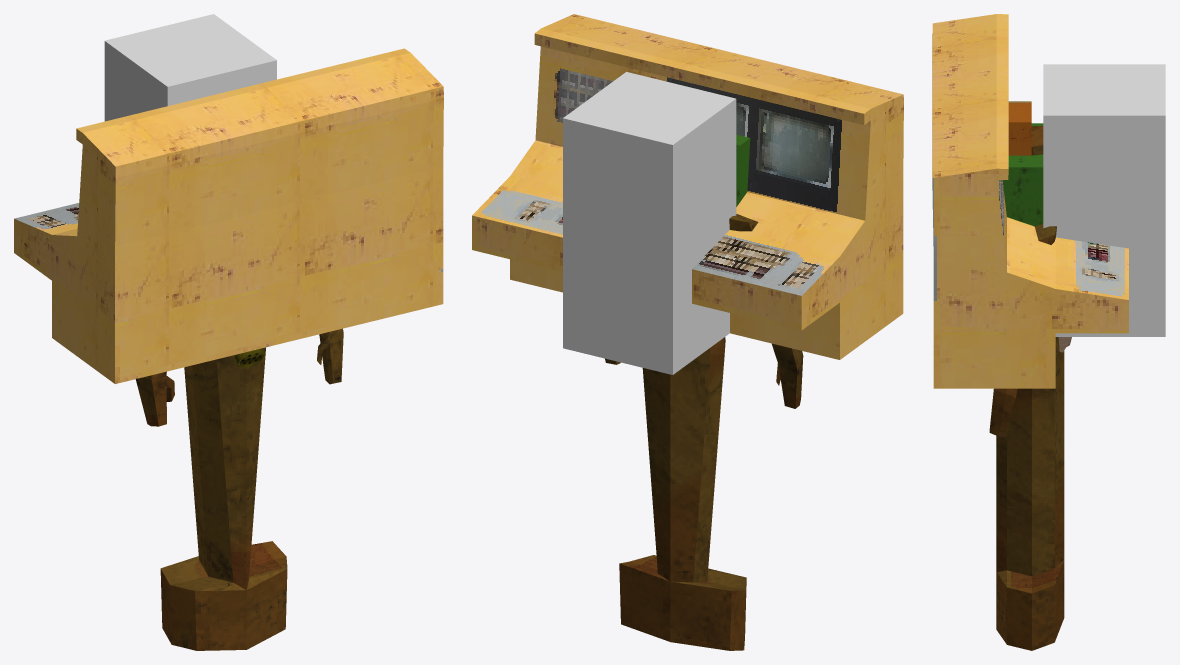
The model's file is statue.gltf.
3 renders of one model, left to right at view 1: azimuth 30°, elevation 25°; view 2: azimuth 150°, elevation 25°; view 3: azimuth 270°, elevation 25°, orthographic. The views are drawn at different scales.
Parts seen in each view (by area): view 1: SovietComputer, Statua, Player reference; view 2: SovietComputer, Player reference, Statua, Archivero; view 3: SovietComputer, Player reference, Statua, Archivero, CajaCables.
Boxes of the visible parts, x1,y1,x2,y2 form: SovietComputer: (14,48,443,383); Statua: (135,328,343,650); Player reference: (104,14,276,121); SovietComputer: (472,14,903,359); Player reference: (563,72,736,374); Statua: (605,214,803,650); Archivero: (736,134,750,206); SovietComputer: (932,14,1128,388); Player reference: (1043,64,1165,336); Statua: (989,126,1064,650); Archivero: (1002,123,1043,226); CajaCables: (1008,101,1031,155).
Size of the model in its own units: 3 by 4.88 by 1.91.
12 materials, 12 textured.
